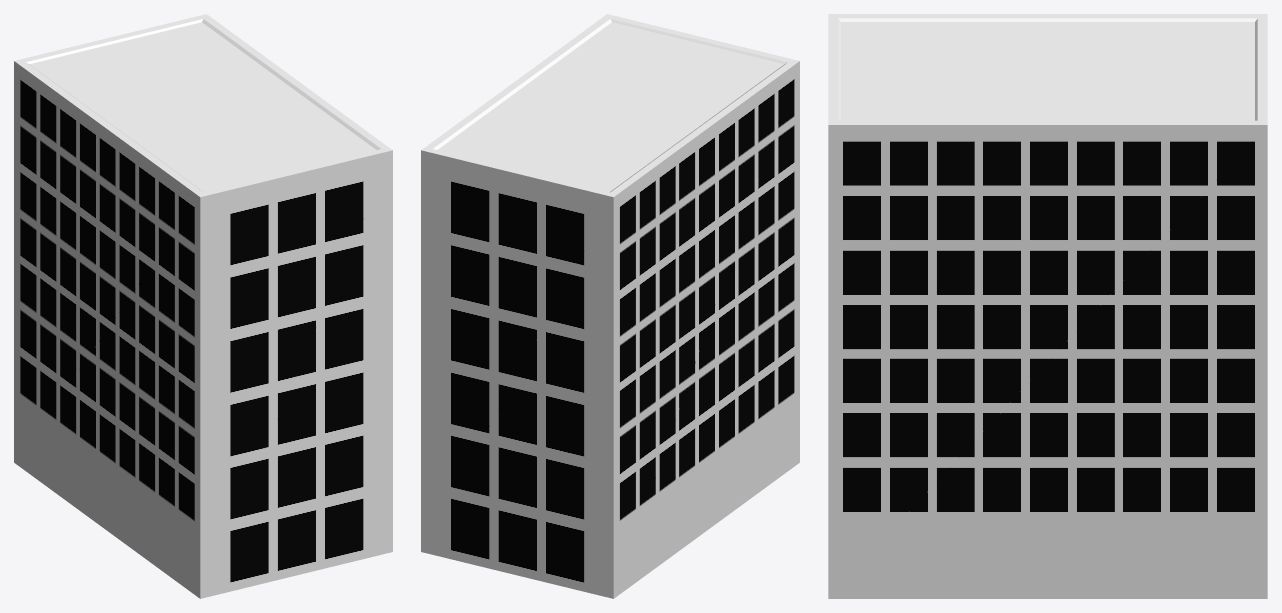
File: Building04.fbx
3 renders of one model, left to right at view 1: azimuth 30°, elevation 25°; view 2: azimuth 150°, elevation 25°; view 3: azimuth 270°, elevation 25°, orthographic. The views are drawn at different scales.
Parts seen in each view (by area): view 1: Cube.017; view 2: Cube.017; view 3: Cube.017.
Part boxes in pixels (<box>): Cube.017: <box>14,14,392,598</box>; Cube.017: <box>421,14,799,598</box>; Cube.017: <box>828,14,1267,598</box>.
Size of the model in its own units: 2291 by 4567 by 3837.
